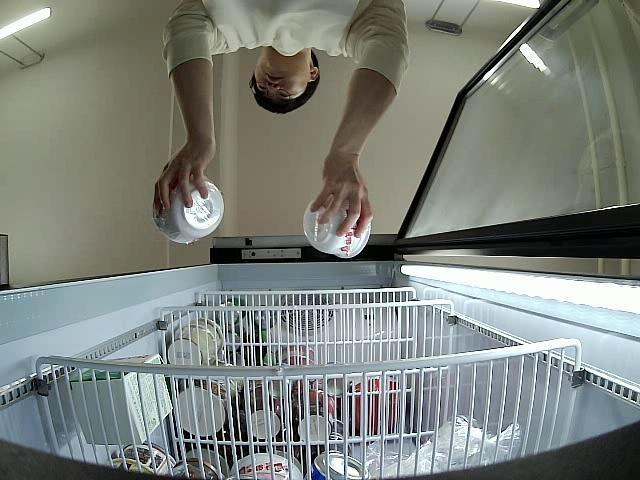09_yukGaeJang: (154, 178, 224, 246), (304, 196, 372, 260)
